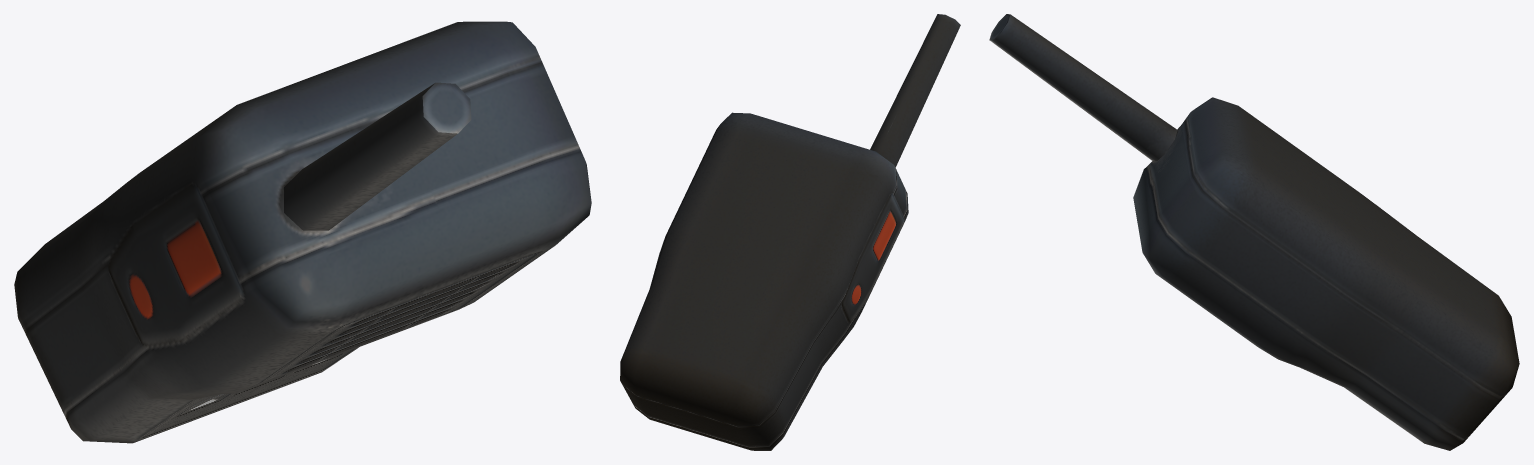
The model's file is wktk.fbx.
3 renders of one model, left to right at view 1: azimuth 30°, elevation 25°; view 2: azimuth 150°, elevation 25°; view 3: azimuth 270°, elevation 25°, orthographic. The views are drawn at different scales.
Parts seen in each view (by area): view 1: Walkie; view 2: Walkie; view 3: Walkie.
Part boxes in pixels (x1,y1,x2,y2): Walkie: (14,21,591,443); Walkie: (620,14,960,450); Walkie: (989,14,1519,450).
Bounding box in the file's own units: 15.32 × 25.24 × 31.91.
